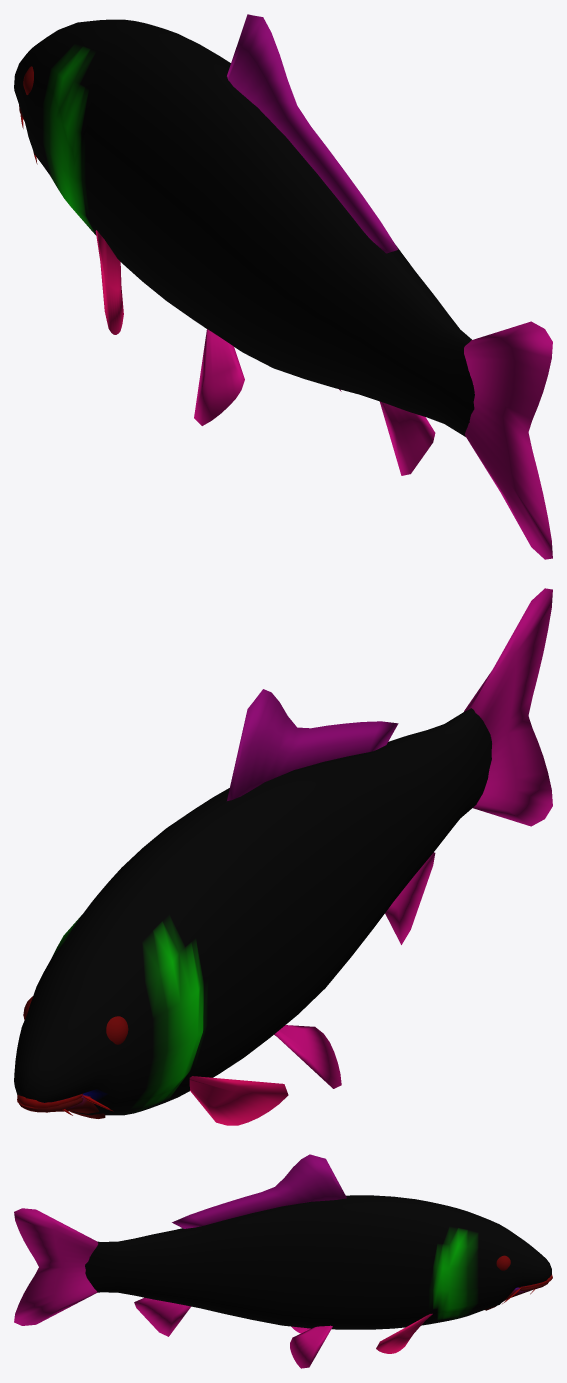
Rendered from carp_game.glb.
3 views of the same model, one above another, from view 1: azimuth 30°, elevation 25°; view 2: azimuth 150°, elevation 25°; view 3: azimuth 270°, elevation 25° (orthographic). The views are drawn at different scales.
Visible parts, largest first — view 1: carp_game; view 2: carp_game; view 3: carp_game.
Boxes of the visible parts, x1=… form: carp_game: x1=14, y1=14, x2=552, y2=559; carp_game: x1=14, y1=588, x2=552, y2=1125; carp_game: x1=14, y1=1154, x2=552, y2=1368.
Size of the model in its own units: 0.1361 by 0.2787 by 0.6914.
